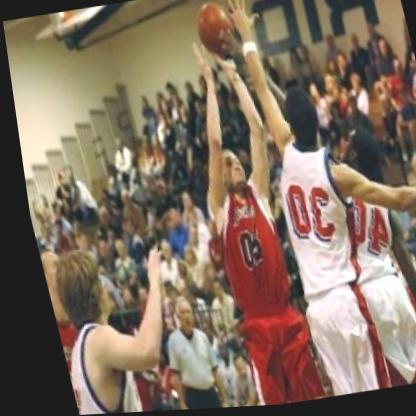basketball: (185, 0, 247, 57)
